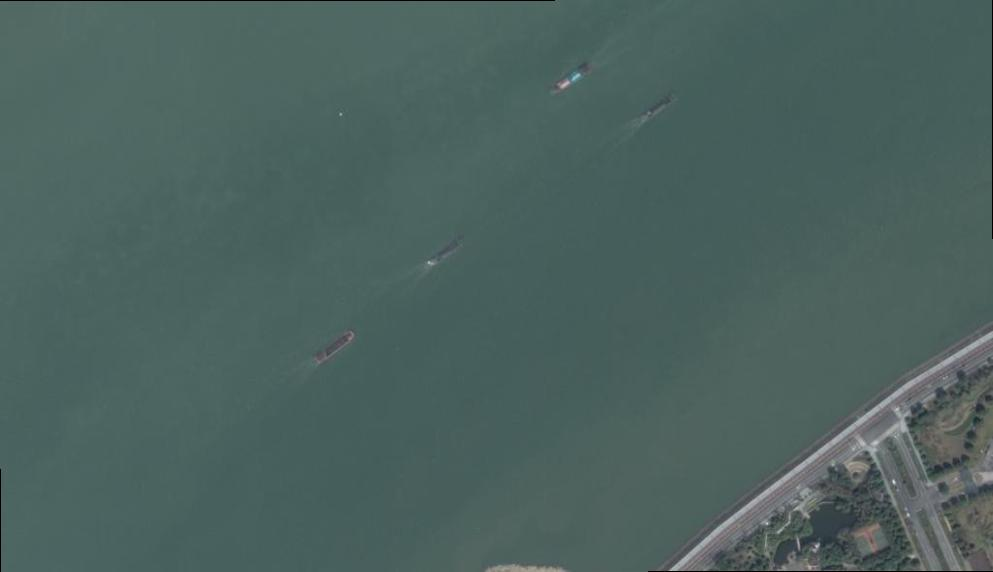ship: (547, 60, 595, 96), (312, 328, 356, 366), (637, 90, 679, 123), (426, 236, 465, 266)
